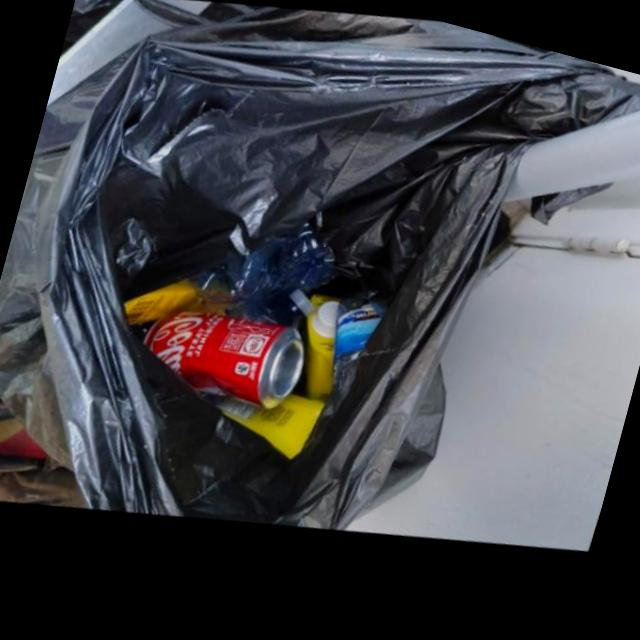nhom: (145, 314, 305, 413)
